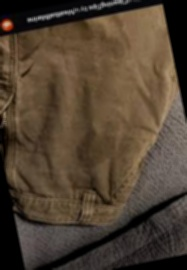oil: (64, 123, 109, 174)
